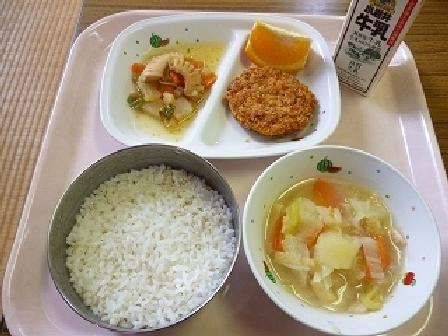Citrus: (246, 21, 319, 66)
Milk: (329, 0, 430, 88)
Rice: (54, 145, 245, 325)
Soups: (258, 151, 424, 317)
cutlet: (212, 66, 329, 147)
vegetable based cooked food: (116, 45, 213, 136)
